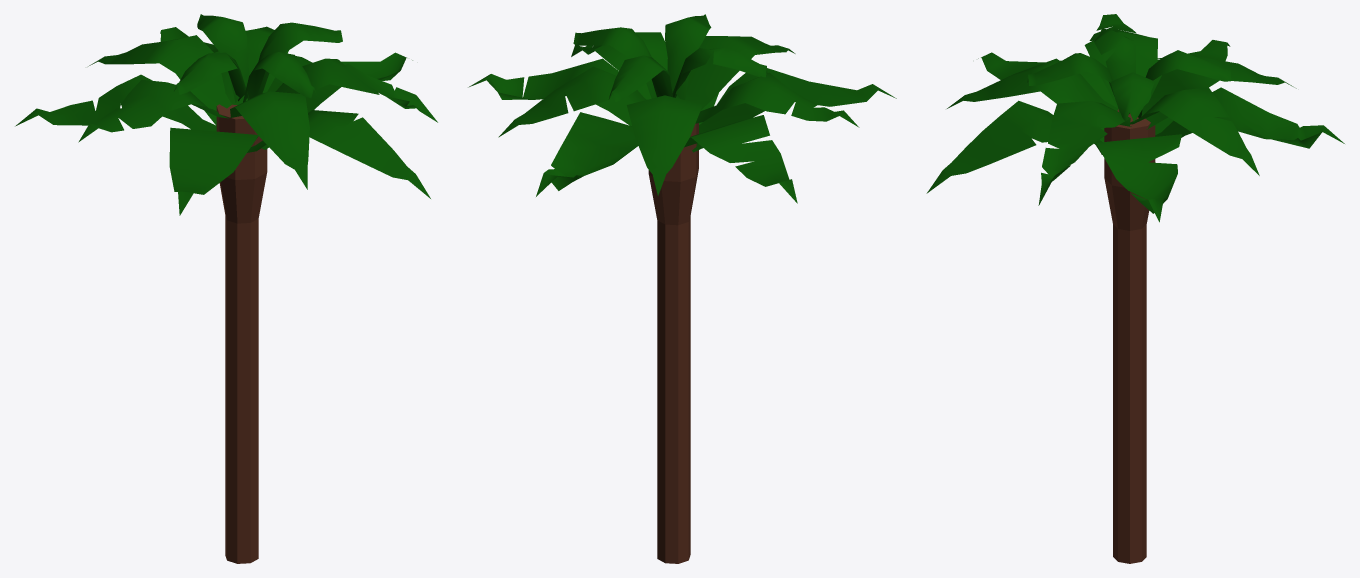
File: Palm Tree.fbx
3 views of the same model, side by side, from view 1: azimuth 30°, elevation 25°; view 2: azimuth 150°, elevation 25°; view 3: azimuth 270°, elevation 25° (orthographic). The views are drawn at different scales.
Parts seen in each view (by area): view 1: Palm Tree; view 2: Palm Tree; view 3: Palm Tree.
Part boxes in pixels (box(x1,y1,x2,y2)): Palm Tree: box(15, 14, 437, 563); Palm Tree: box(468, 14, 896, 563); Palm Tree: box(926, 14, 1344, 563).
Size of the model in its own units: 430 by 433 by 581.
